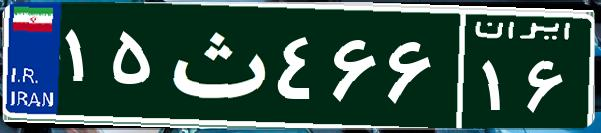1: (57, 26, 110, 107), (475, 38, 525, 113)
4: (273, 28, 330, 110)
5: (110, 28, 158, 105)
6: (385, 28, 445, 110), (330, 28, 385, 110), (525, 38, 570, 115)
ث: (158, 15, 273, 115)
